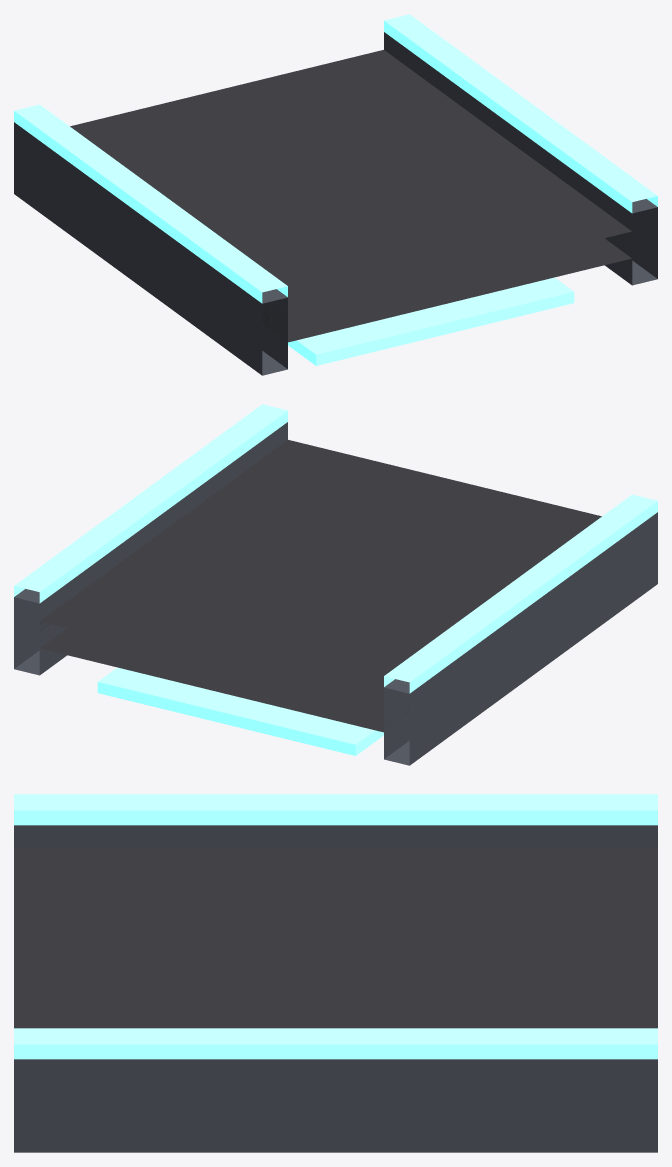
File: esteira_ht.glb
3 views of the same model, one above another, from view 1: azimuth 30°, elevation 25°; view 2: azimuth 150°, elevation 25°; view 3: azimuth 270°, elevation 25° (orthographic). The views are drawn at different scales.
Parts seen in each view (by area): view 1: esteira_ht; view 2: esteira_ht; view 3: esteira_ht.
Boxes of the visible parts, box(x1,y1,x2,y2) form: esteira_ht: box(14, 14, 657, 375); esteira_ht: box(14, 404, 657, 765); esteira_ht: box(14, 794, 657, 1152).
Size of the model in its own units: 0.92 by 0.225 by 1.
